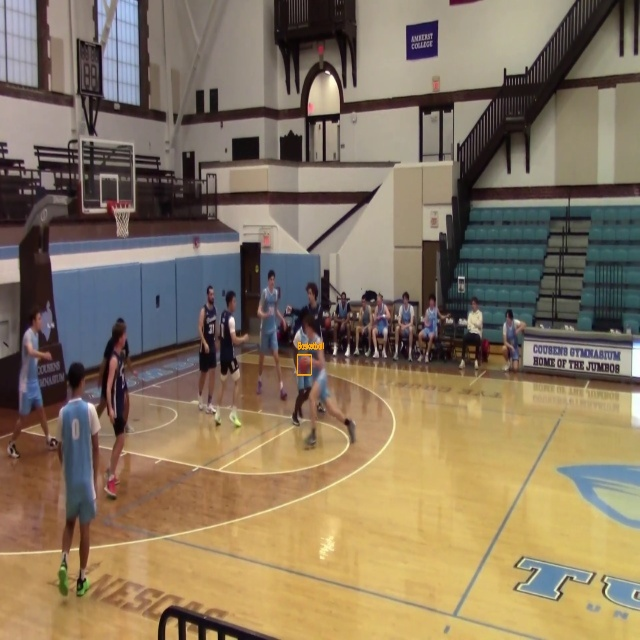Basketball: (297, 355, 311, 375)
